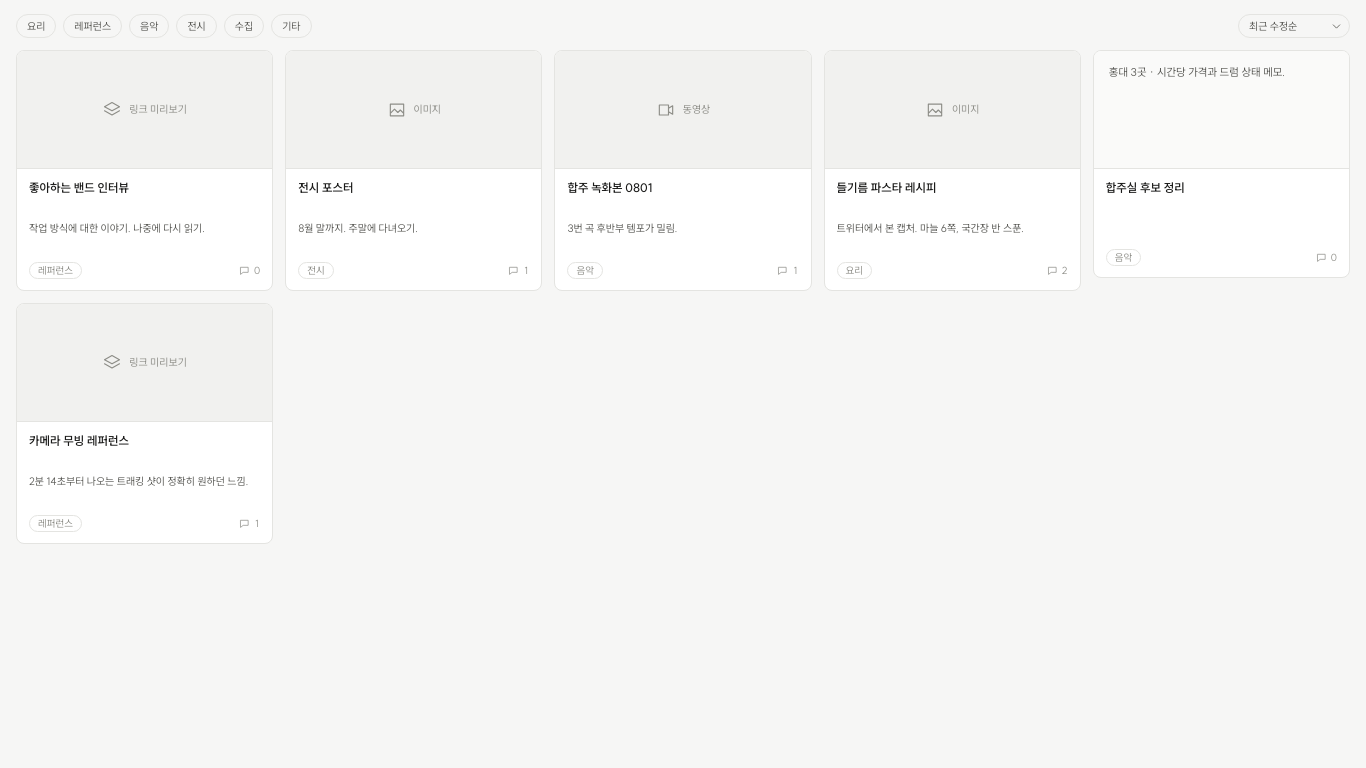
Test case: ScrapPage › shows the comment mutation failure only on the affected detail view
Click the button "이미지 들기름 파스타 레시피 트위터에서 본 캡처. 마늘 6쪽, 국간장 반 스푼. 요리 2". click: (952, 170)
box: 824,50 -> 1081,291
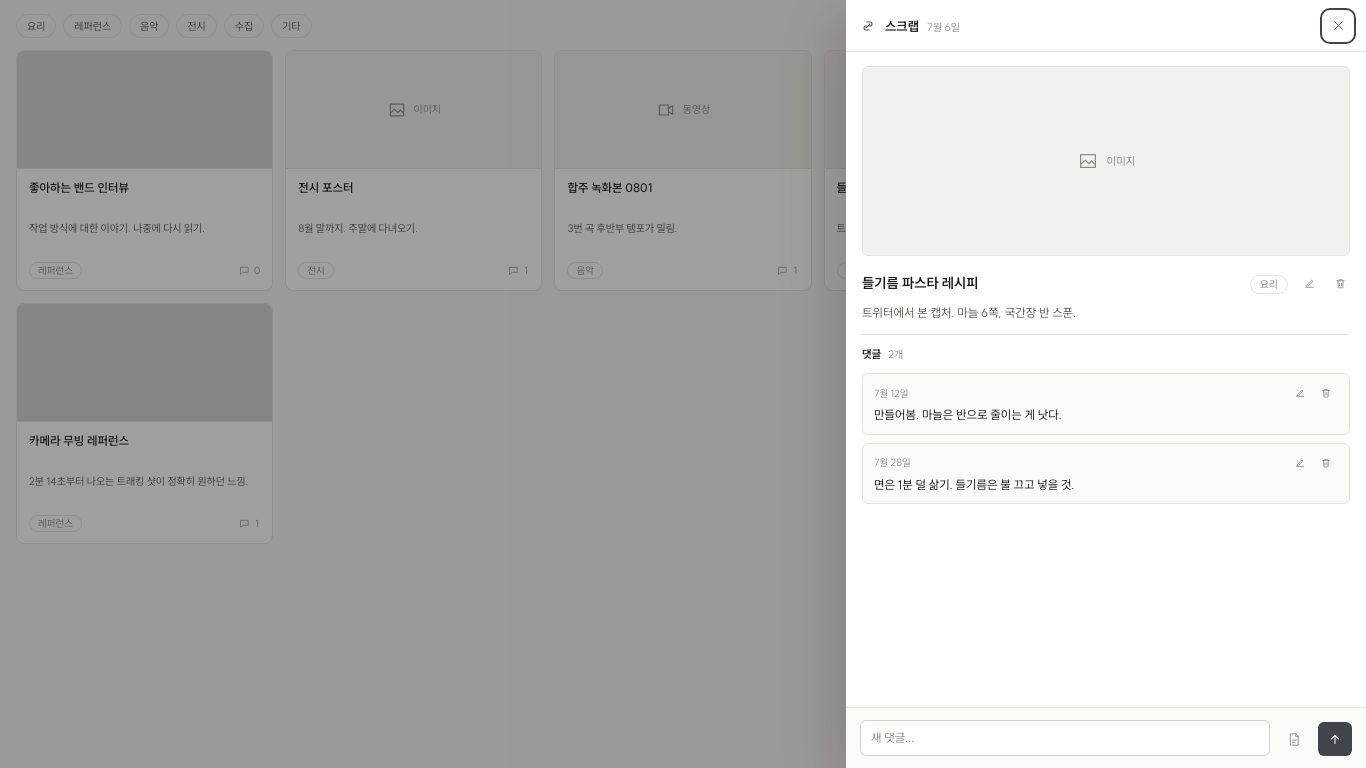
Type "실패할 댓글" into the text box labelled "새 댓글". click: (1065, 738)
box: 860,720 -> 1270,756
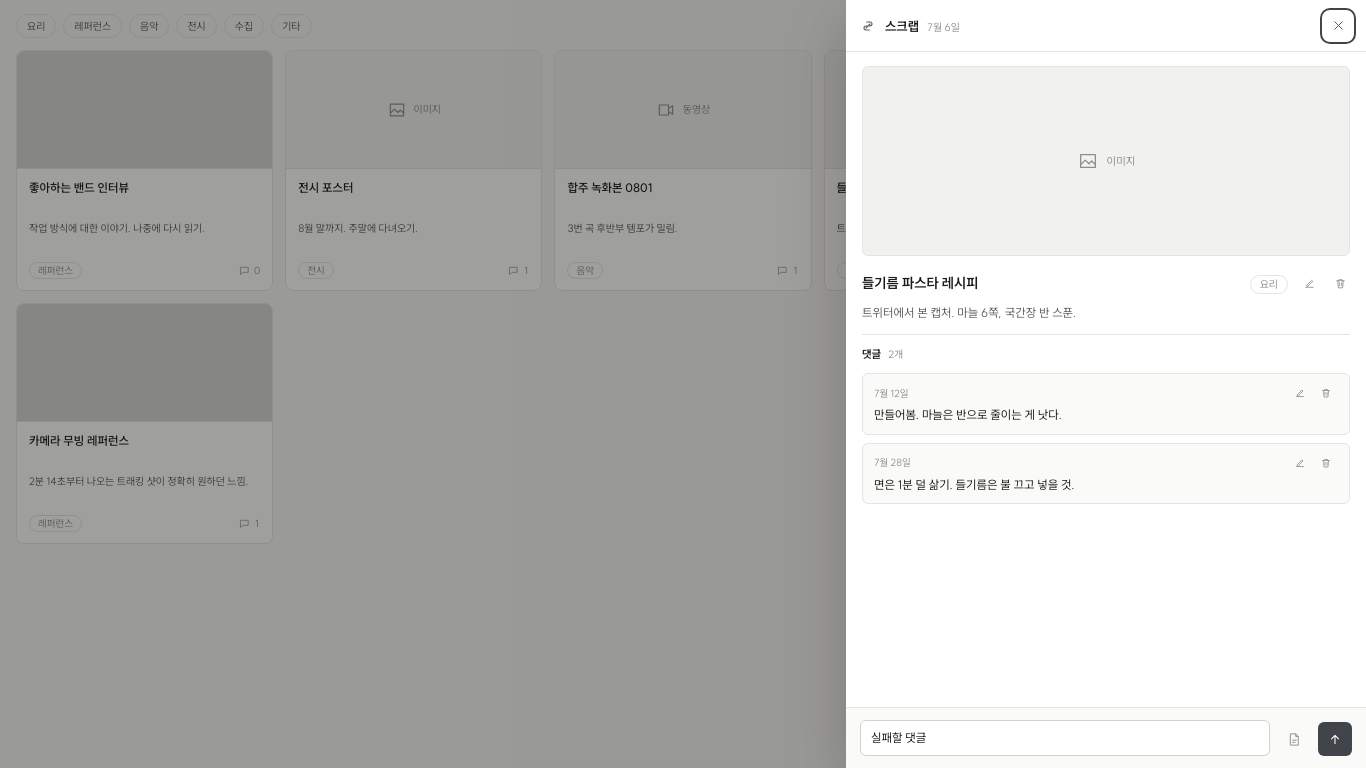
Click the button named "댓글". click: (1335, 739)
box: 1318,722 -> 1352,756
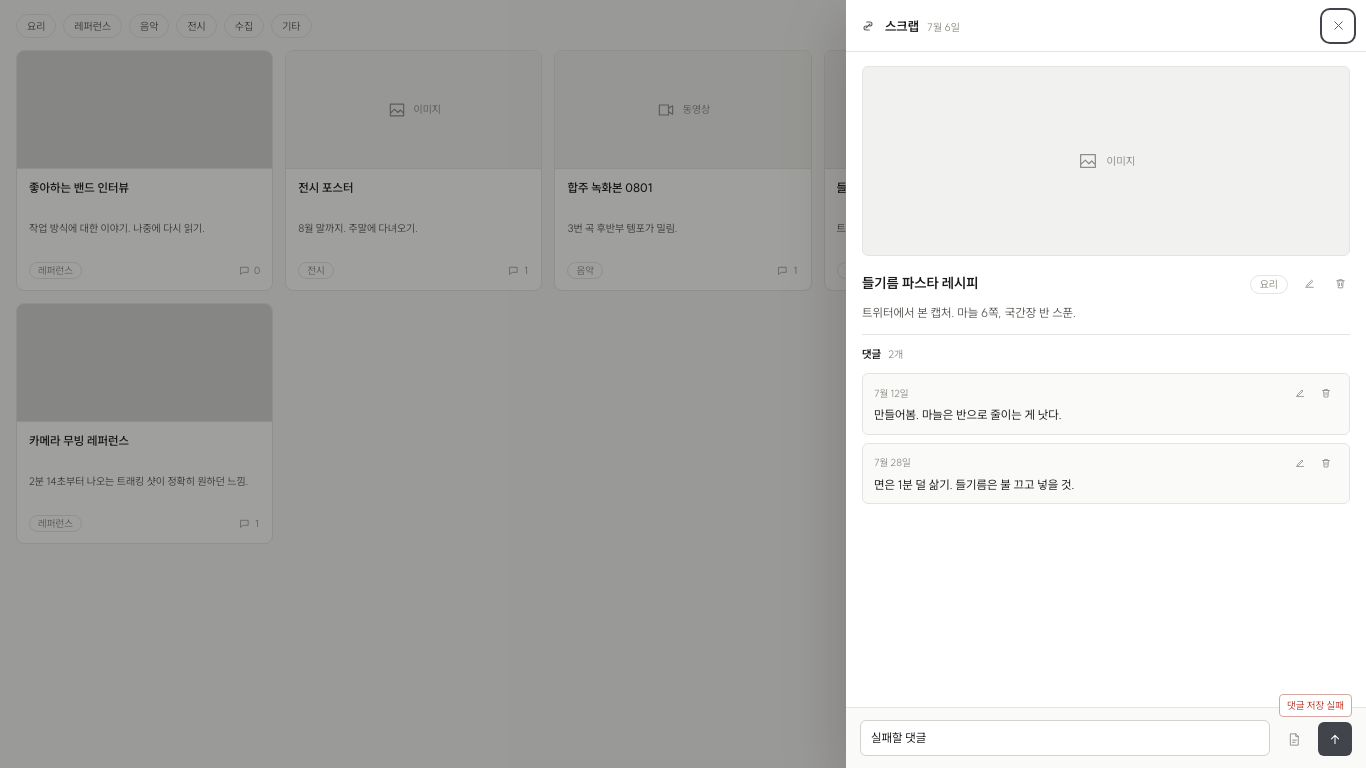
Expected: the message reads "댓글 저장 실패", 1287,699 -> 1344,712
